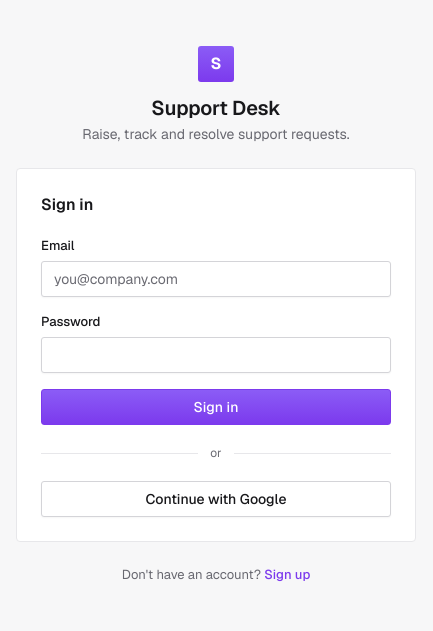
Test: Auth › switches between sign in and sign up
This screenshot has width=433, height=631.
Expected: the heading "Support Desk" is shown, [151, 95, 281, 121]
Expected: the heading "Sign in" is shown, [41, 194, 93, 215]
What coordinates should you click on to do the following:
click the button "Sign up"
I would click on:
 (287, 575)
Its box is [264, 566, 310, 584].
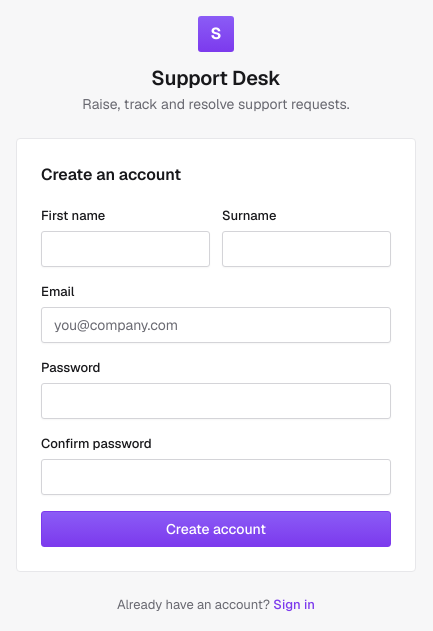
Expected: the heading "Create an account" is shown, [41, 164, 181, 185]
What coordinates should you click on to do the following:
click the button "Sign in"
I would click on:
 (294, 605)
Its box is [273, 596, 315, 614].
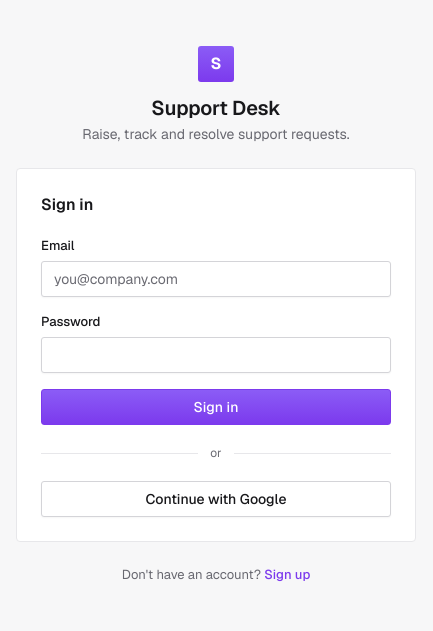
Expected: the heading "Sign in" is shown, [41, 194, 93, 215]
